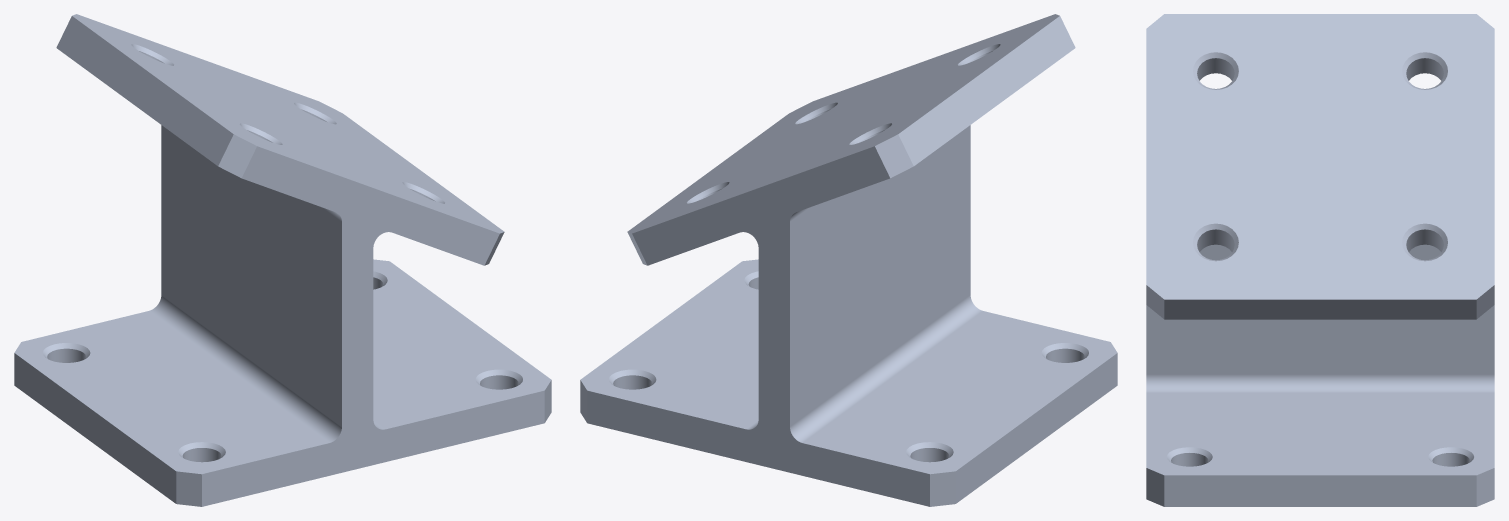
The model's file is Angled_Mount.gltf.
3 renders of one model, left to right at view 1: azimuth 30°, elevation 25°; view 2: azimuth 150°, elevation 25°; view 3: azimuth 270°, elevation 25°, orthographic. The views are drawn at different scales.
Parts seen in each view (by area): view 1: Angled Mount; view 2: Angled Mount; view 3: Angled Mount.
Boxes of the visible parts, left/top/right/bottom form: Angled Mount: left=14, top=14, right=551, bottom=506; Angled Mount: left=580, top=14, right=1117, bottom=506; Angled Mount: left=1146, top=14, right=1494, bottom=506.
Size of the model in its own units: 0.0762 by 0.069 by 0.0635.
